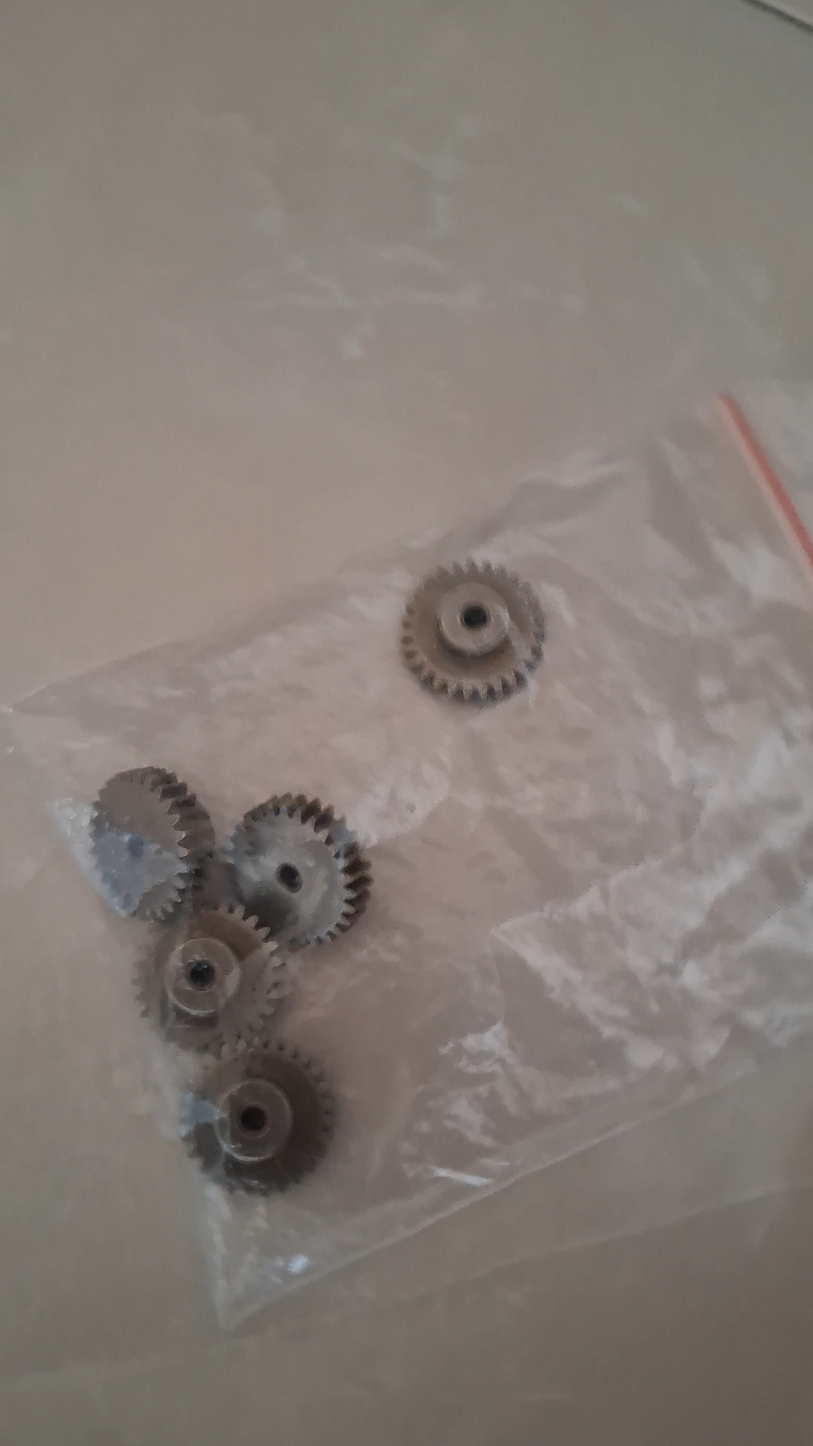spur gear: (184, 1041, 335, 1193), (135, 905, 283, 1055), (230, 794, 370, 949), (402, 560, 544, 702), (90, 767, 214, 921)
